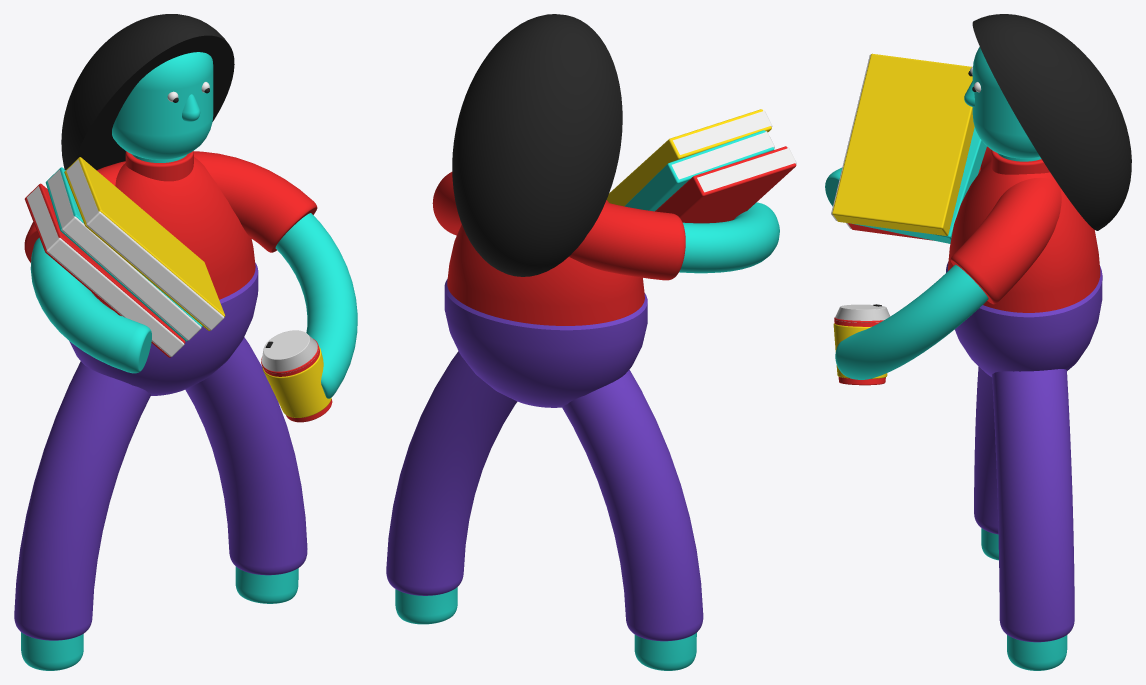
Rendered from ttc-explainer-poc-mini-lady.glb.
3 views of the same model, side by side, from view 1: azimuth 30°, elevation 25°; view 2: azimuth 150°, elevation 25°; view 3: azimuth 270°, elevation 25° (orthographic). The views are drawn at different scales.
Parts seen in each view (by area): view 1: Cylinder 2 (×8), Box 3 (×3), Sphere - baked, Cylinder 4, Box 4 (×3), Cylinder, Cylinder 4 - baked, Cylinder 1 (×3), Cylinder 6; view 2: Cylinder 2 (×7), Sphere - baked, Cylinder 4 - baked, Cylinder 4, Box 4 (×3), Box 3 (×3); view 3: Cylinder 2 (×5), Box 4 (×2), Sphere - baked, Cylinder 4, Cylinder 4 - baked, Cylinder, Cylinder 1 (×3), Cylinder 6.
Boxes of the visible parts, x1=… form: Cylinder 2 (×8): x1=14, y1=151, x2=357, y2=670; Box 3 (×3): x1=26, y1=159, x2=224, y2=356; Sphere - baked: x1=61, y1=14, x2=234, y2=170; Cylinder 4: x1=92, y1=157, x2=255, y2=309; Box 4 (×3): x1=24, y1=157, x2=225, y2=357; Cylinder: x1=112, y1=52, x2=213, y2=159; Cylinder 4 - baked: x1=69, y1=262, x2=258, y2=395; Cylinder 1 (×3): x1=261, y1=330, x2=332, y2=422; Cylinder 6: x1=125, y1=151, x2=193, y2=181; Cylinder 2 (×7): x1=386, y1=172, x2=779, y2=670; Sphere - baked: x1=452, y1=14, x2=622, y2=276; Cylinder 4 - baked: x1=444, y1=279, x2=647, y2=407; Cylinder 4: x1=447, y1=200, x2=644, y2=325; Box 4 (×3): x1=606, y1=109, x2=796, y2=223; Box 3 (×3): x1=671, y1=110, x2=796, y2=192; Cylinder 2 (×5): x1=835, y1=177, x2=1074, y2=670; Box 4 (×2): x1=832, y1=53, x2=986, y2=243; Sphere - baked: x1=972, y1=14, x2=1131, y2=230; Cylinder 4: x1=948, y1=160, x2=1100, y2=312; Cylinder 4 - baked: x1=946, y1=261, x2=1102, y2=376; Cylinder: x1=972, y1=47, x2=1039, y2=158; Cylinder 1 (×3): x1=833, y1=304, x2=890, y2=385; Cylinder 6: x1=991, y1=150, x2=1049, y2=174.
Bounding box in the file's own units: 0.1754 × 0.3094 × 0.1461.
